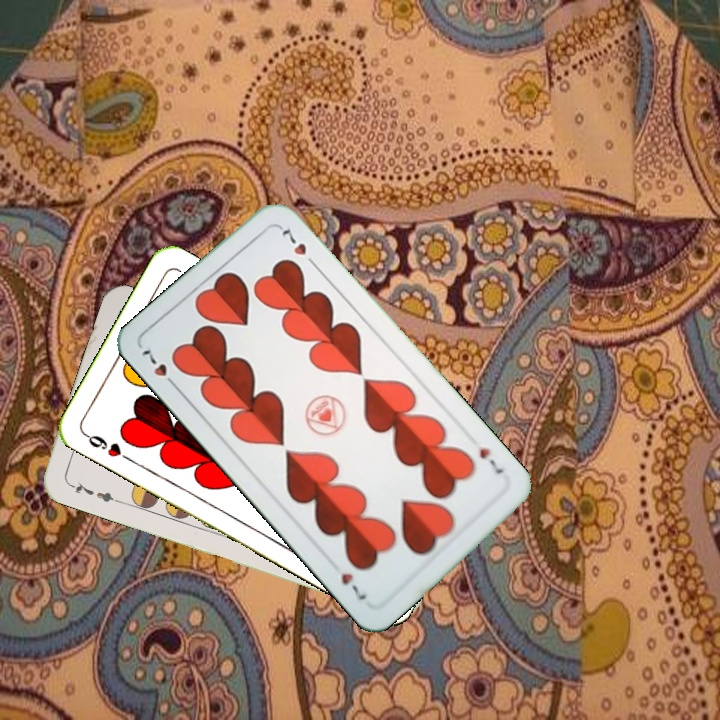E7: (65, 478, 122, 506)
H7: (137, 345, 181, 392), (475, 444, 507, 478)
H9: (80, 429, 134, 464)
